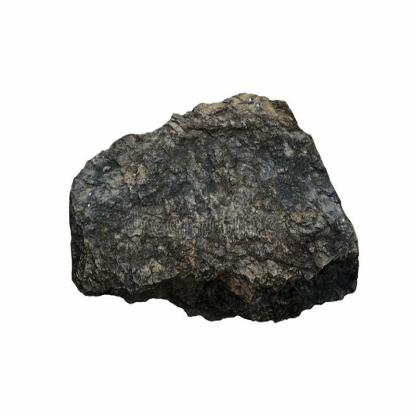Sedimentary_Limestone: (70, 82, 364, 326)
